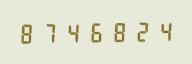eight: (17, 21, 38, 45), (105, 19, 126, 43)
four: (61, 20, 82, 44), (149, 19, 170, 42)
seven: (39, 20, 60, 44)
six: (83, 20, 104, 43)
two: (127, 19, 148, 43)
